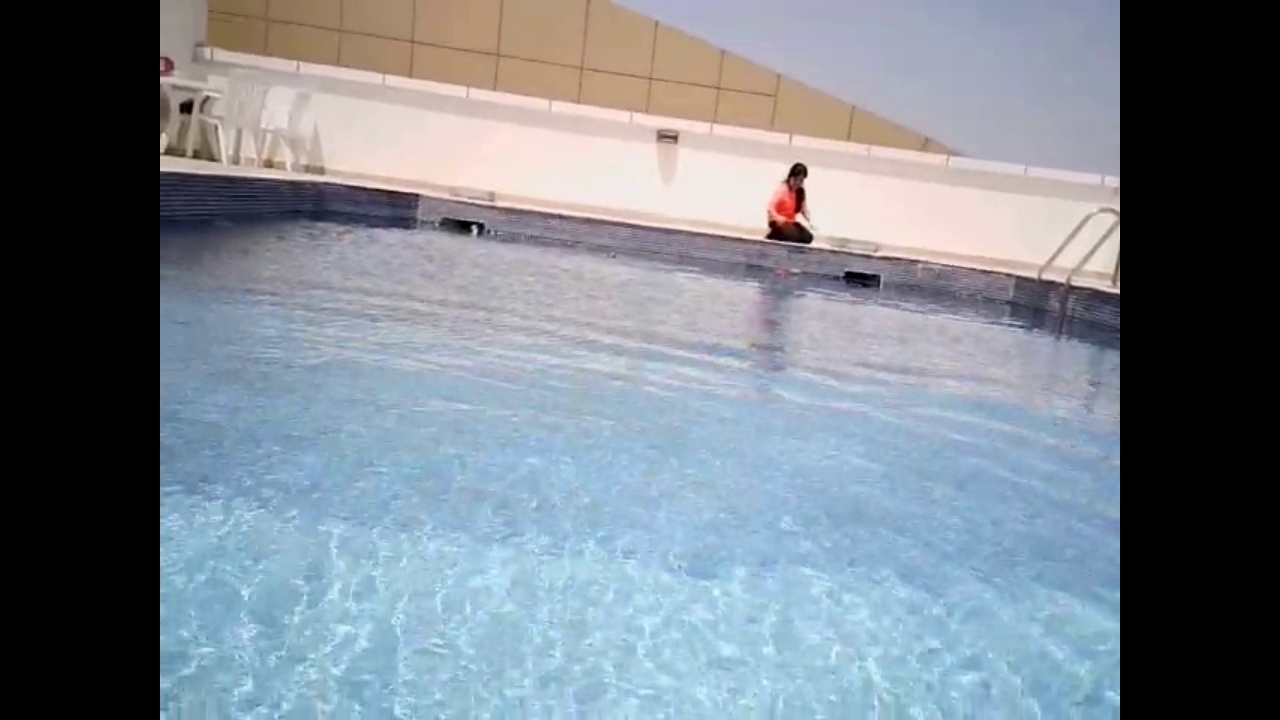debris: (772, 263, 784, 280), (788, 265, 802, 279), (426, 217, 439, 227), (607, 251, 618, 261), (469, 223, 478, 235)
